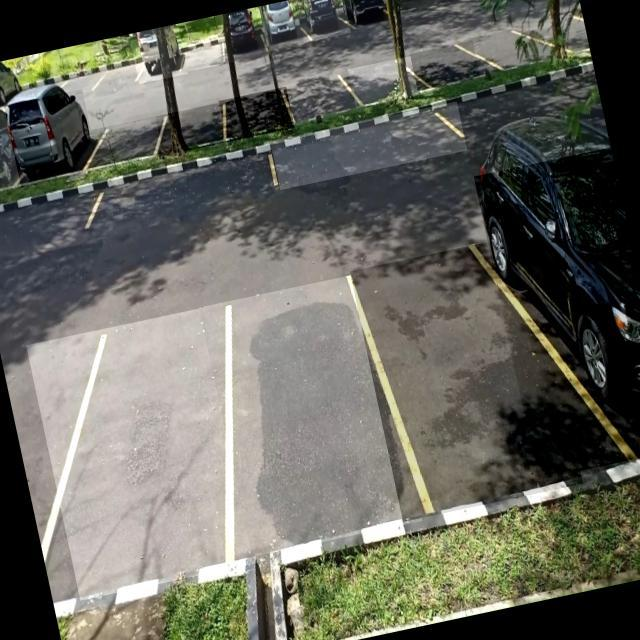empty: (26, 307, 257, 600), (350, 233, 583, 522), (198, 271, 422, 556), (81, 143, 281, 235), (264, 101, 467, 191), (282, 70, 362, 126), (218, 86, 294, 142), (348, 54, 422, 109), (89, 115, 166, 167), (155, 102, 231, 154), (410, 40, 481, 91), (84, 47, 144, 93), (175, 32, 228, 72)
occupied: (473, 146, 640, 479), (4, 89, 100, 188), (128, 23, 188, 84), (214, 6, 268, 64), (255, 0, 307, 51), (294, 0, 350, 42), (0, 105, 20, 198)
